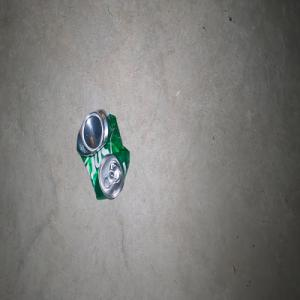SodaCan: (76, 108, 129, 200)
